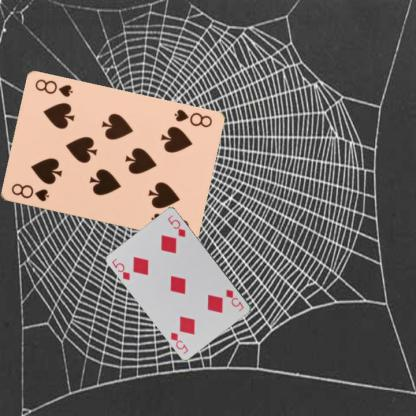5d: (109, 256, 132, 281), (224, 286, 246, 312)
8s: (8, 181, 50, 203), (171, 107, 213, 129)
